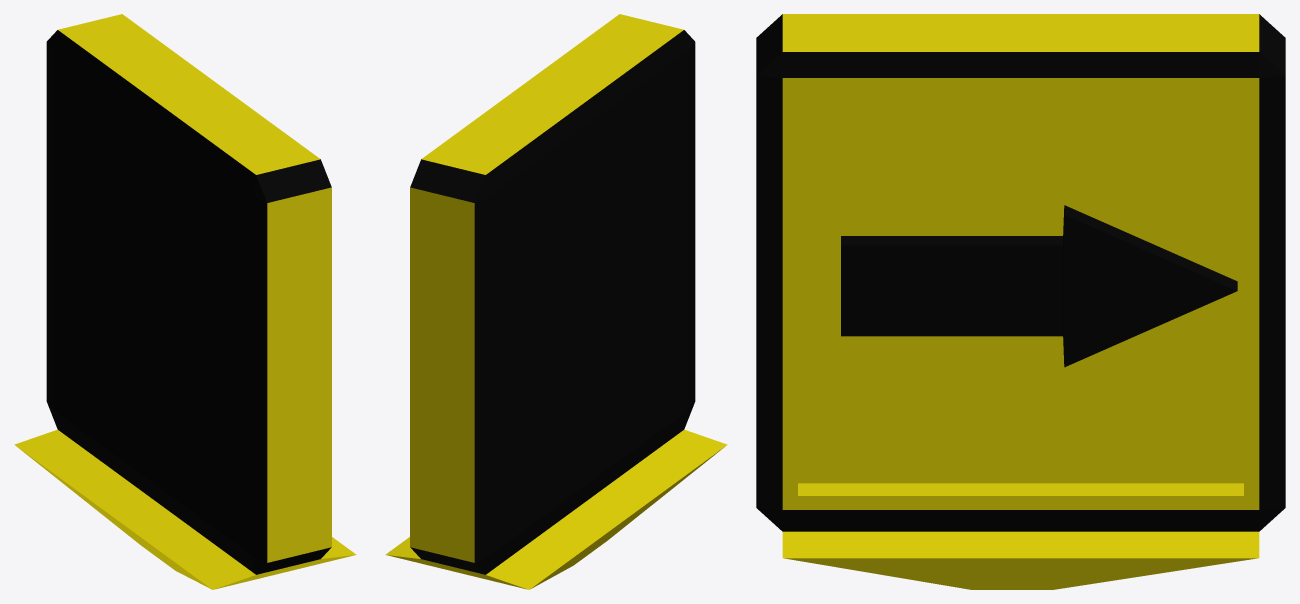
File: Ctrelka.fbx
3 renders of one model, left to right at view 1: azimuth 30°, elevation 25°; view 2: azimuth 150°, elevation 25°; view 3: azimuth 270°, elevation 25°, orthographic. The views are drawn at different scales.
Parts seen in each view (by area): view 1: Куб.001; view 2: Куб.001; view 3: Куб.001.
Boxes of the visible parts, bbox=[...] form: Куб.001: bbox=[14, 14, 356, 589]; Куб.001: bbox=[385, 14, 727, 589]; Куб.001: bbox=[756, 14, 1285, 589].
Size of the model in its own units: 75.38 by 227 by 200.
